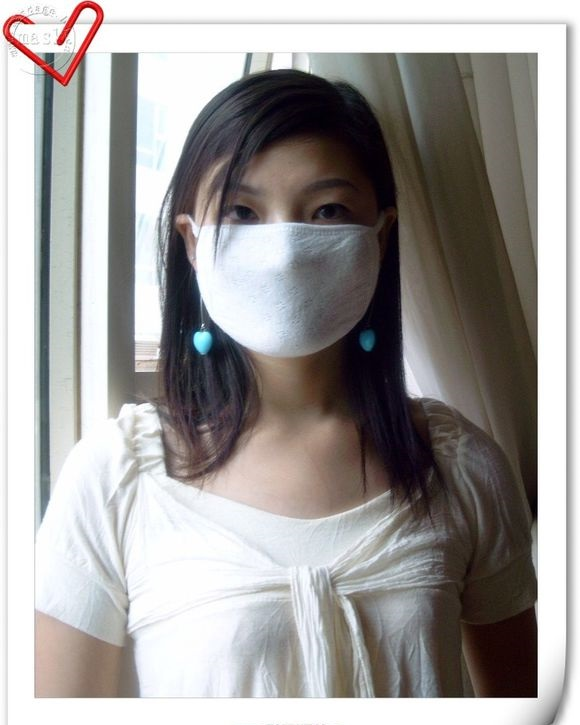face_mask: (196, 125, 378, 369)
